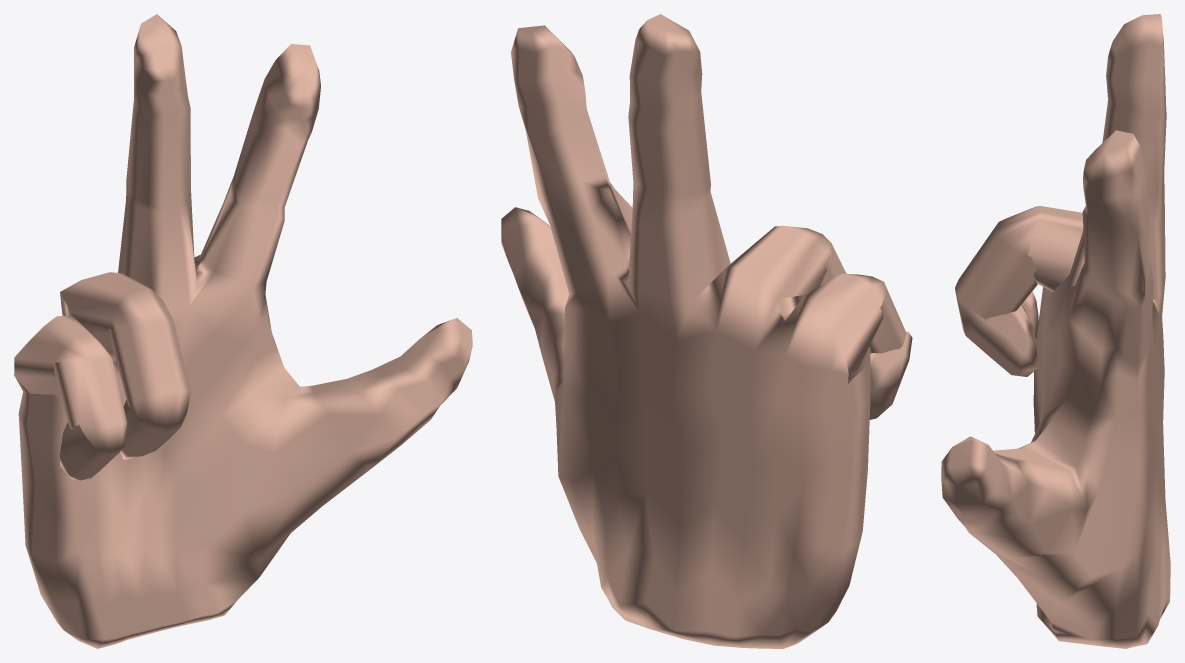
File: MAO_3.obj
The picture shows the model from 3 angles, left to right: view 1: azimuth 30°, elevation 25°; view 2: azimuth 150°, elevation 25°; view 3: azimuth 270°, elevation 25°; orthographic projection. The views are drawn at different scales.
Parts seen in each view (by area): view 1: mao_dir:mao_dir; view 2: mao_dir:mao_dir; view 3: mao_dir:mao_dir.
Boxes of the visible parts, x1=… form: mao_dir:mao_dir: x1=14, y1=14, x2=472, y2=648; mao_dir:mao_dir: x1=501, y1=14, x2=912, y2=648; mao_dir:mao_dir: x1=941, y1=14, x2=1170, y2=648.
Size of the model in its own units: 174 by 243 by 82.05.
